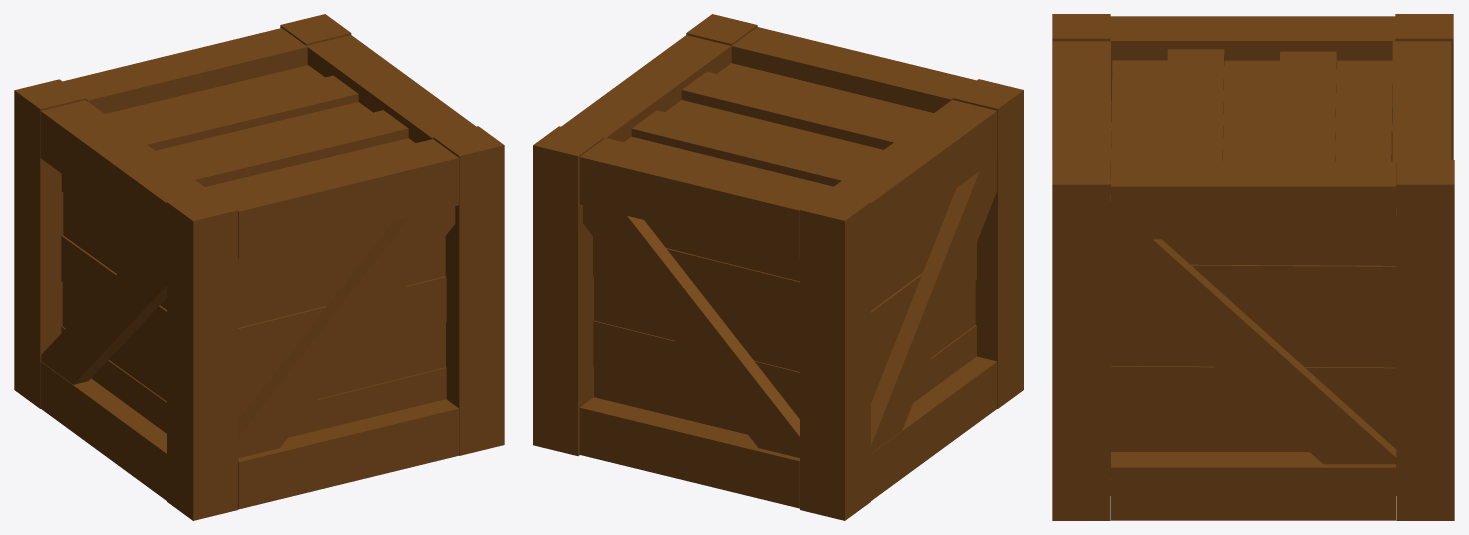
File: chest-optimized.fbx
3 renders of one model, left to right at view 1: azimuth 30°, elevation 25°; view 2: azimuth 150°, elevation 25°; view 3: azimuth 270°, elevation 25°, orthographic. The views are drawn at different scales.
Visible parts, largest first — view 1: OuterCrate, InnerCrate; view 2: OuterCrate, InnerCrate; view 3: OuterCrate, InnerCrate.
Part boxes in pixels (x1,y1,x2,y2): OuterCrate: (14, 14, 504, 520); InnerCrate: (61, 65, 446, 437); OuterCrate: (533, 14, 1023, 520); InnerCrate: (593, 63, 976, 434); OuterCrate: (1052, 14, 1454, 520); InnerCrate: (1110, 60, 1396, 467).
Size of the model in its own units: 298 by 274 by 297.
